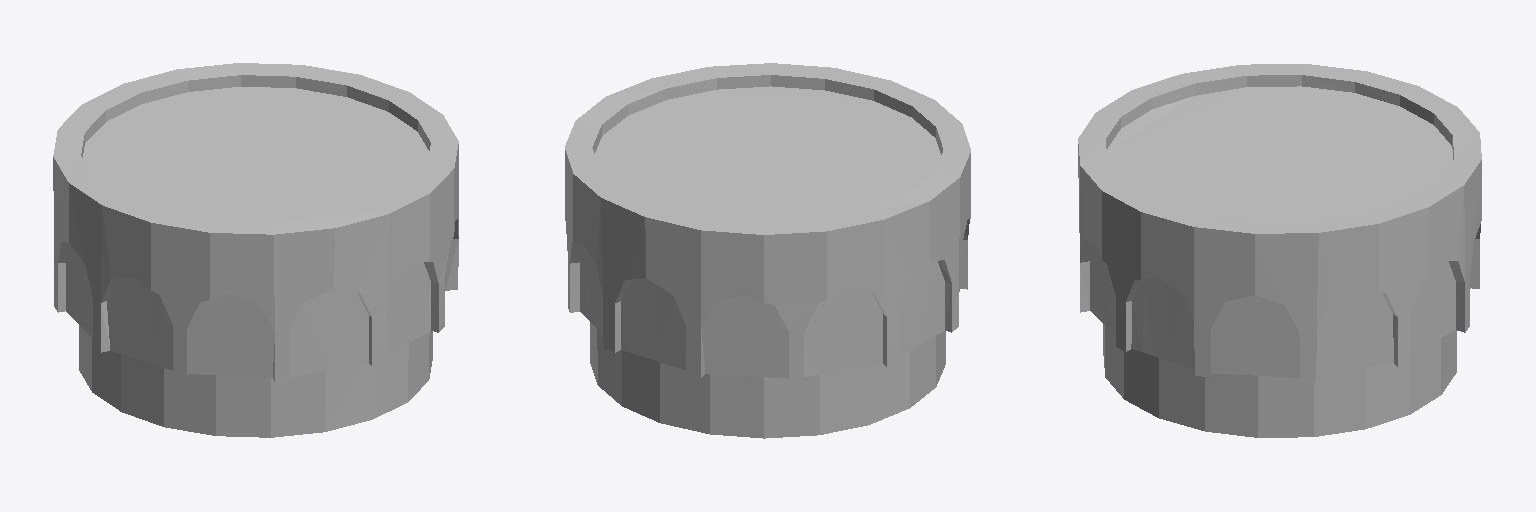
The model's file is table_6.obj.
The picture shows the model from 3 angles: view 1: azimuth 30°, elevation 25°; view 2: azimuth 150°, elevation 25°; view 3: azimuth 270°, elevation 25°; orthographic projection.
Visible parts, largest first — view 1: Mesa1.005_Cylinder.005; view 2: Mesa1.005_Cylinder.005; view 3: Mesa1.005_Cylinder.005.
Boxes of the visible parts, x1=… form: Mesa1.005_Cylinder.005: x1=53, y1=63, x2=458, y2=437; Mesa1.005_Cylinder.005: x1=565, y1=63, x2=970, y2=438; Mesa1.005_Cylinder.005: x1=1078, y1=64, x2=1481, y2=437.
Bounding box in the file's own units: 1.19 × 0.6999 × 1.19.